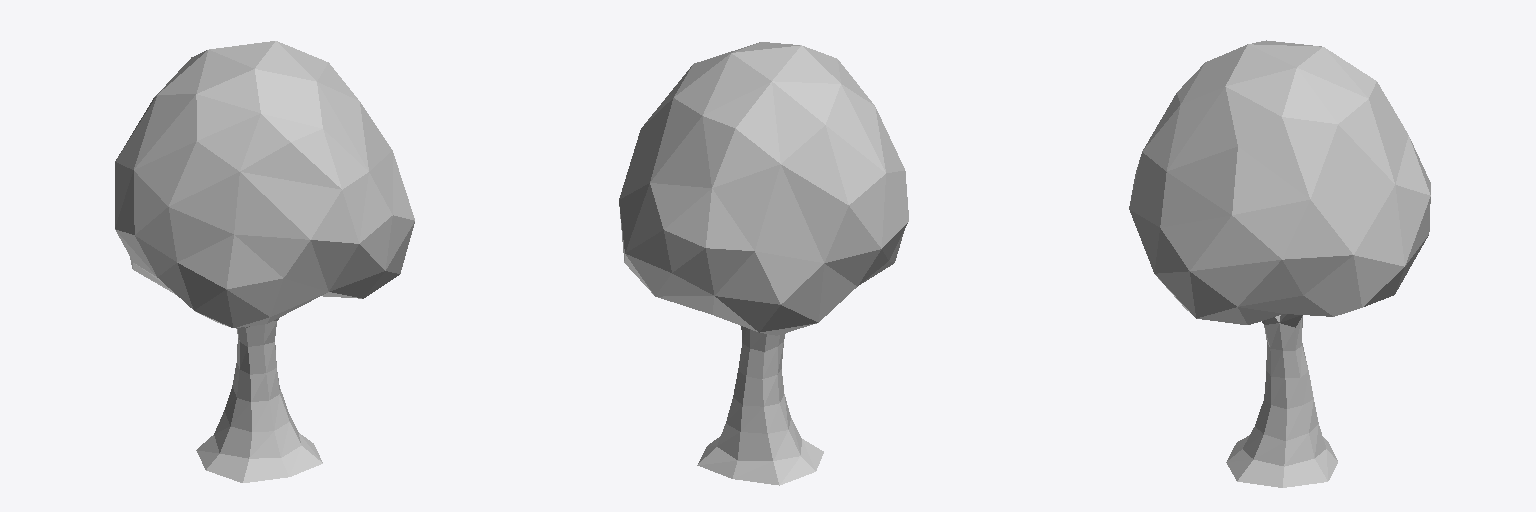
The model's file is tree7.obj.
3 views of the same model, side by side, from view 1: azimuth 30°, elevation 25°; view 2: azimuth 150°, elevation 25°; view 3: azimuth 270°, elevation 25° (orthographic).
Parts seen in each view (by area): view 1: LowPoly_Tree_01_Plane_Plane.000; view 2: LowPoly_Tree_01_Plane_Plane.000; view 3: LowPoly_Tree_01_Plane_Plane.000.
Part boxes in pixels (left/top/right/bottom): LowPoly_Tree_01_Plane_Plane.000: left=115, top=41, right=414, bottom=482; LowPoly_Tree_01_Plane_Plane.000: left=619, top=42, right=908, bottom=485; LowPoly_Tree_01_Plane_Plane.000: left=1129, top=40, right=1430, bottom=487.
Size of the model in its own units: 1.35 by 2 by 1.34.